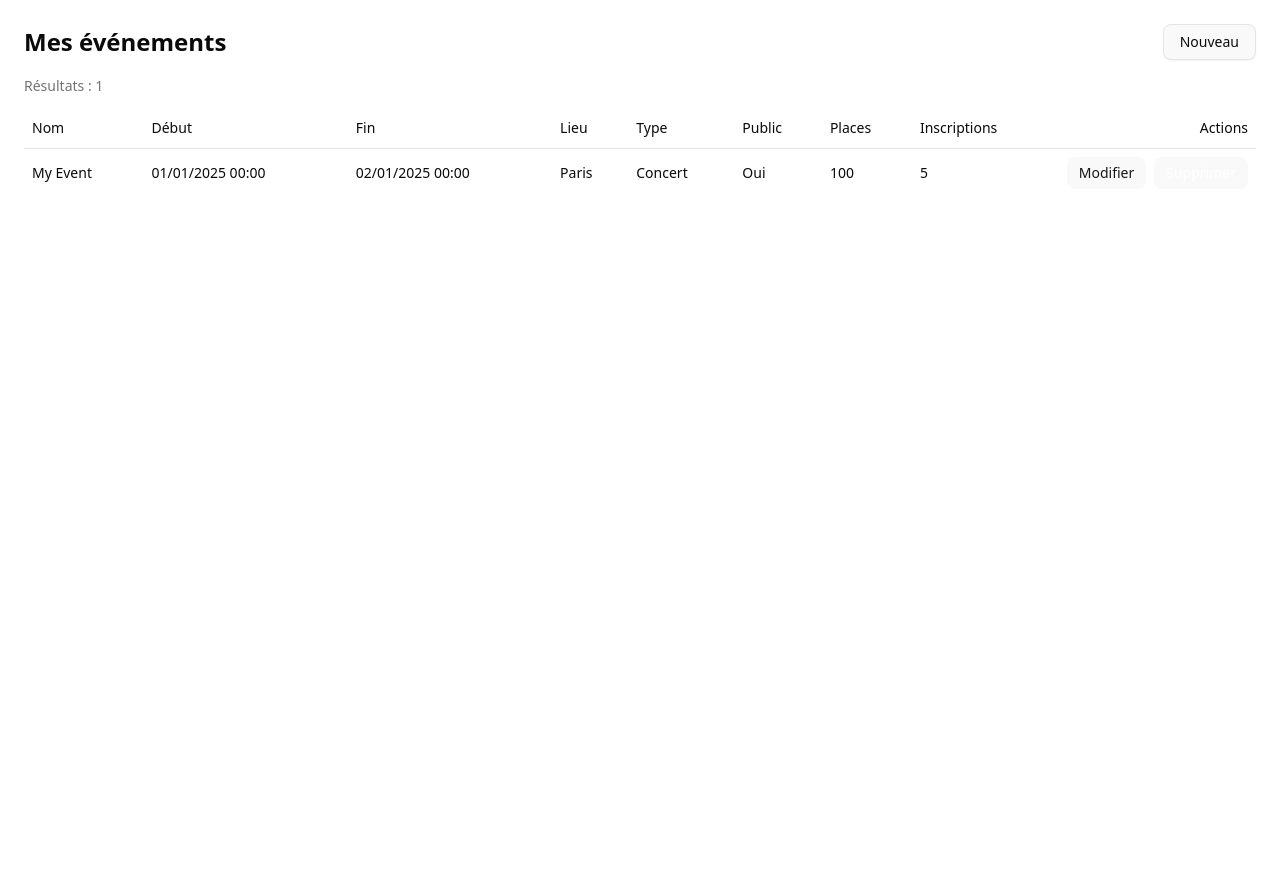
Test case: EventListAdmin › opens edit sheet on click
This screenshot has width=1280, height=885.
Click the button "Modifier" at (1107, 172), box [1067,156,1146,188]
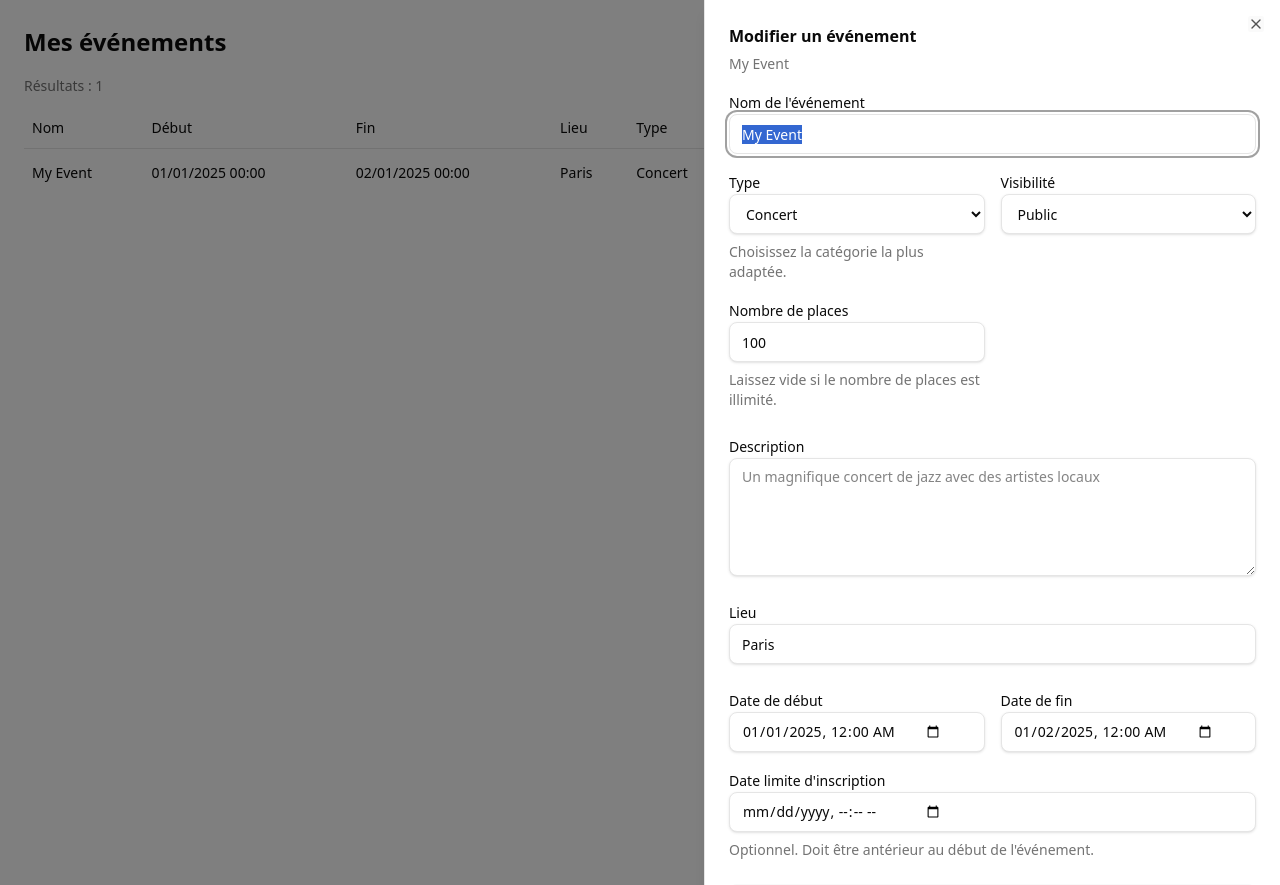
Expected: the text "My Event" is shown 2 times, [24,148,144,196]; [729,54,789,73]
Now the heading "Modifier un événement" is shown, box [729,25,916,47]
